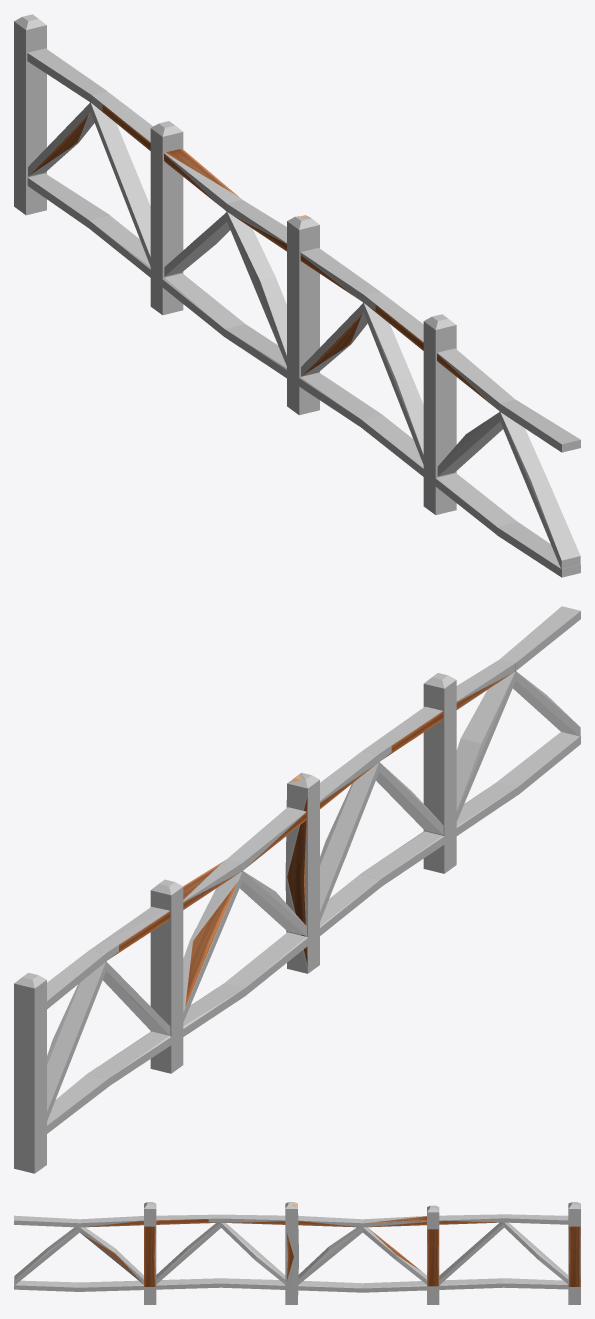
Rendered from SM_Fences01_6.fbx.
3 views of the same model, one above another, from view 1: azimuth 30°, elevation 25°; view 2: azimuth 150°, elevation 25°; view 3: azimuth 270°, elevation 25° (orthographic). The views are drawn at different scales.
Parts seen in each view (by area): view 1: SM_Fences01_6_ConvexHulls, SM_Fences01_6; view 2: SM_Fences01_6_ConvexHulls, SM_Fences01_6; view 3: SM_Fences01_6_ConvexHulls, SM_Fences01_6.
Boxes of the visible parts, box(x1,y1,x2,y2) form: SM_Fences01_6_ConvexHulls: box(14, 14, 580, 577); SM_Fences01_6: box(30, 104, 493, 406); SM_Fences01_6_ConvexHulls: box(14, 606, 580, 1173); SM_Fences01_6: box(112, 675, 508, 1006); SM_Fences01_6_ConvexHulls: box(14, 1202, 580, 1304); SM_Fences01_6: box(84, 1203, 580, 1286).
Size of the model in its own units: 17.61 by 703 by 135.
2 materials, 1 textured.
